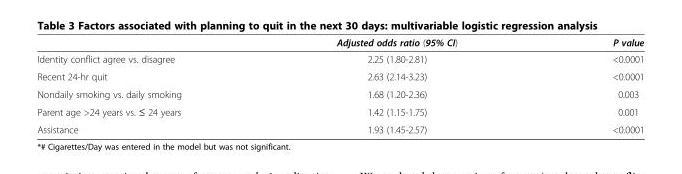table: (36, 36, 643, 134)
table column: (258, 36, 534, 134), (36, 36, 258, 134), (534, 36, 643, 134)
table column header: (36, 36, 643, 50)
table row: (36, 67, 643, 85), (36, 102, 643, 120), (36, 50, 643, 67), (36, 85, 643, 102), (36, 36, 643, 50), (36, 120, 643, 134)
